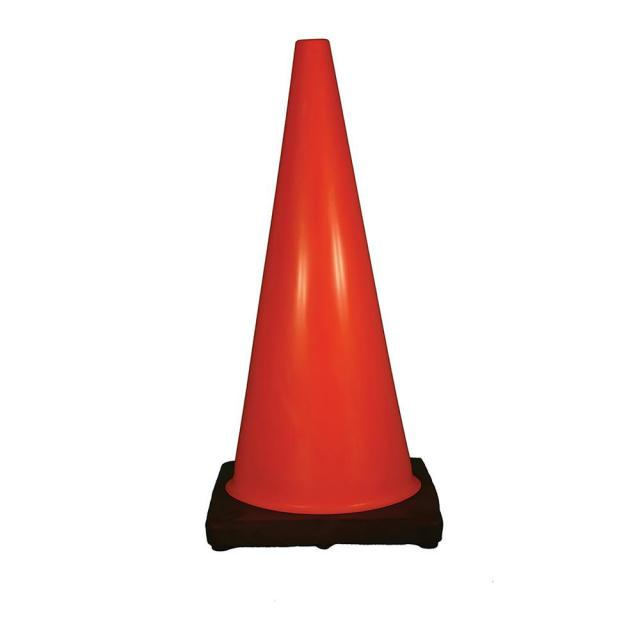traffic cone: (197, 33, 455, 565)
